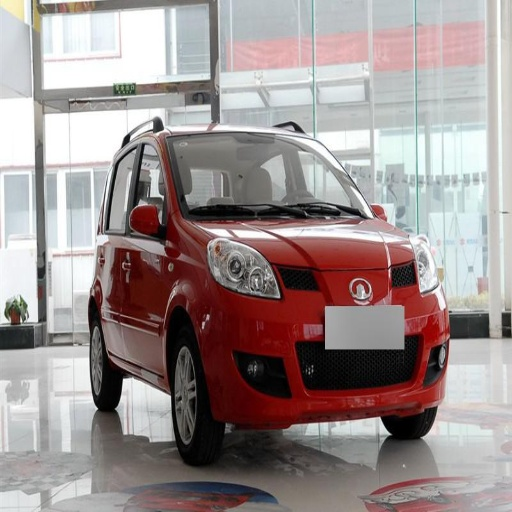back_right_door: (102, 135, 139, 353)
front_bumper: (197, 264, 432, 428)
front_right_door: (121, 135, 170, 371)
front_right_light: (206, 238, 282, 300)
tailgate: (352, 262, 410, 307)
trunk: (366, 263, 424, 346)
